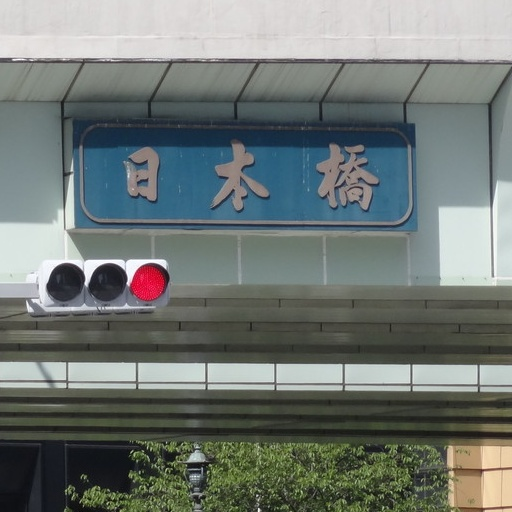Traffic_Signal_Red: (31, 246, 176, 317)
